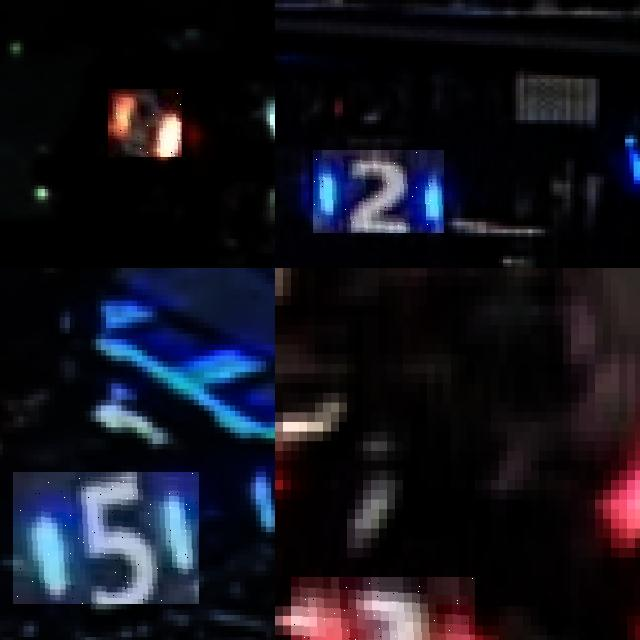B2: (313, 150, 444, 233)
B5: (13, 472, 199, 604)
R3: (291, 577, 475, 640)
Rs: (108, 89, 182, 157)
